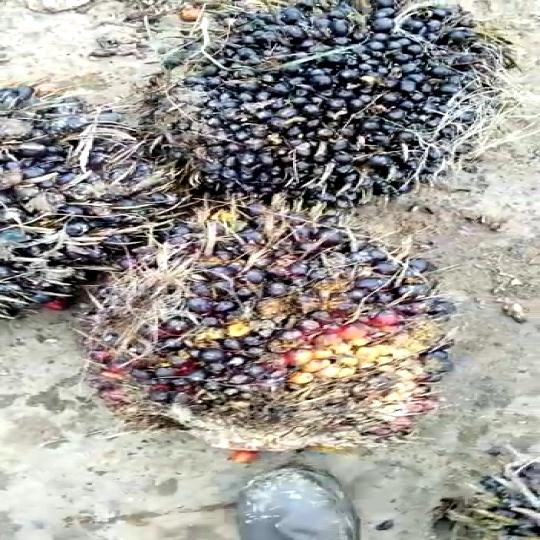mentah: (87, 202, 488, 456), (127, 0, 540, 206)
